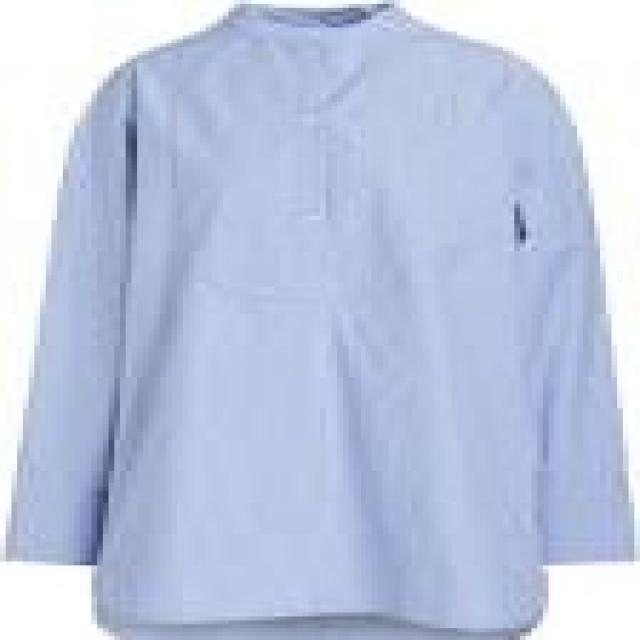plain: (13, 2, 635, 640)
